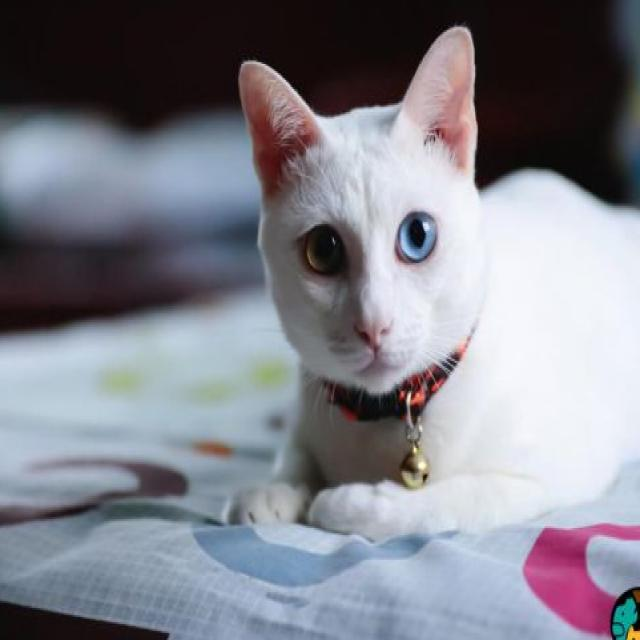Khao Manee: (217, 20, 640, 544)
